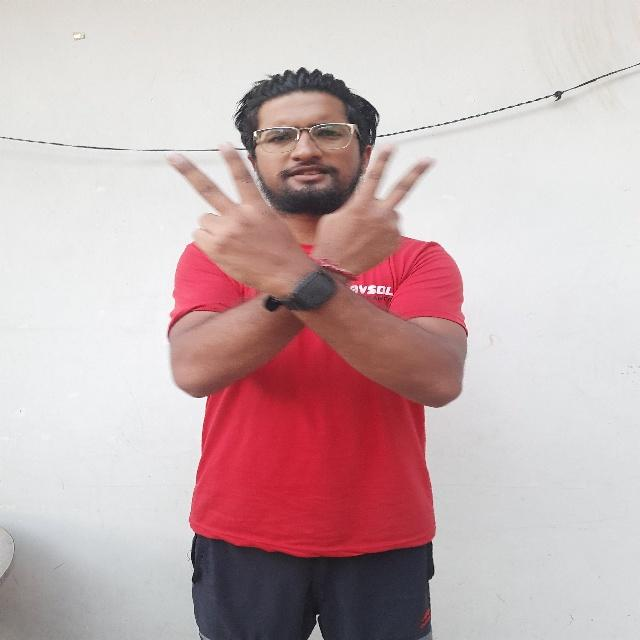Reversed Victory: (158, 134, 304, 302), (315, 130, 439, 288)
